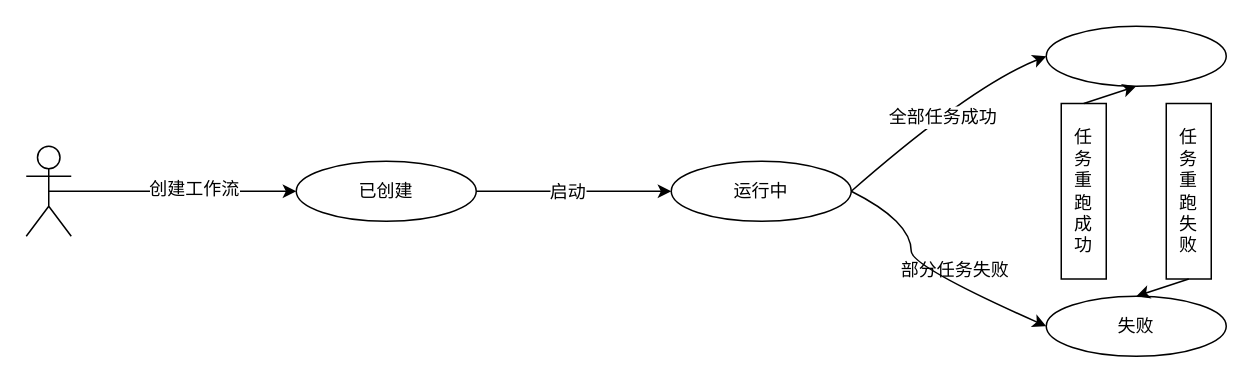
Some shapes in this 1253 by 383 pixel diagram are drawn without their labels. Here are the shapes that lost their labels. From the top down, the centre of each, then its label:
At [1135,55]: "成功".
At [48,190]: "Actor".
